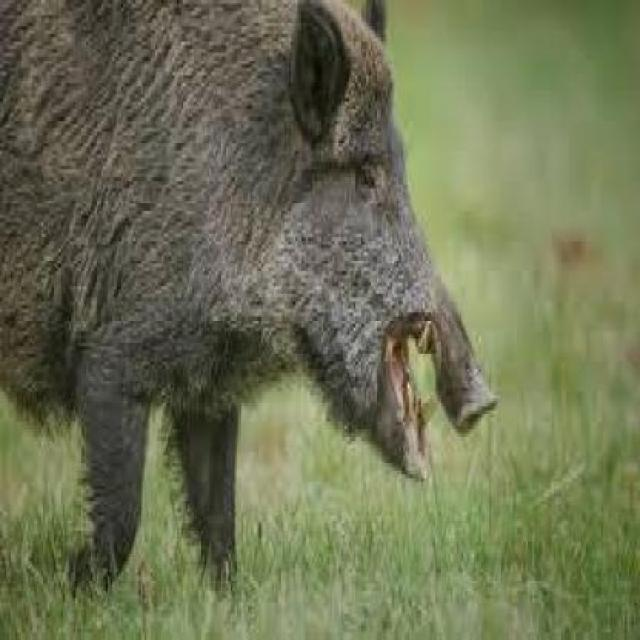wildboar: (0, 0, 502, 614)
